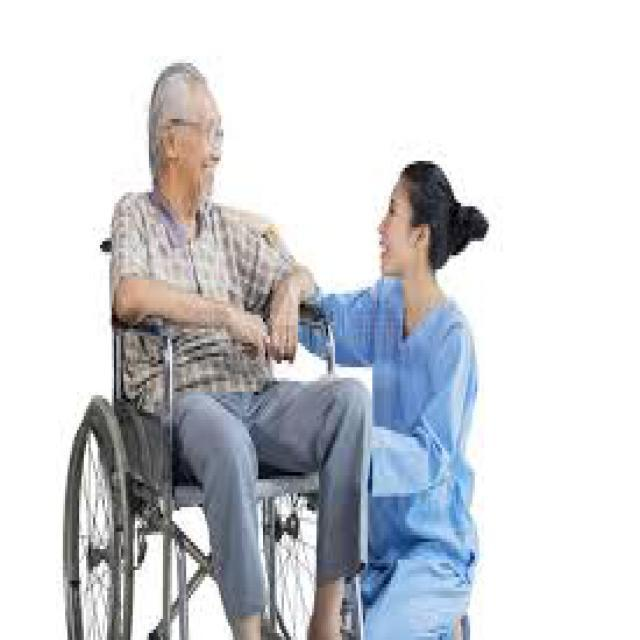wheelchairs: (61, 235, 374, 630)
